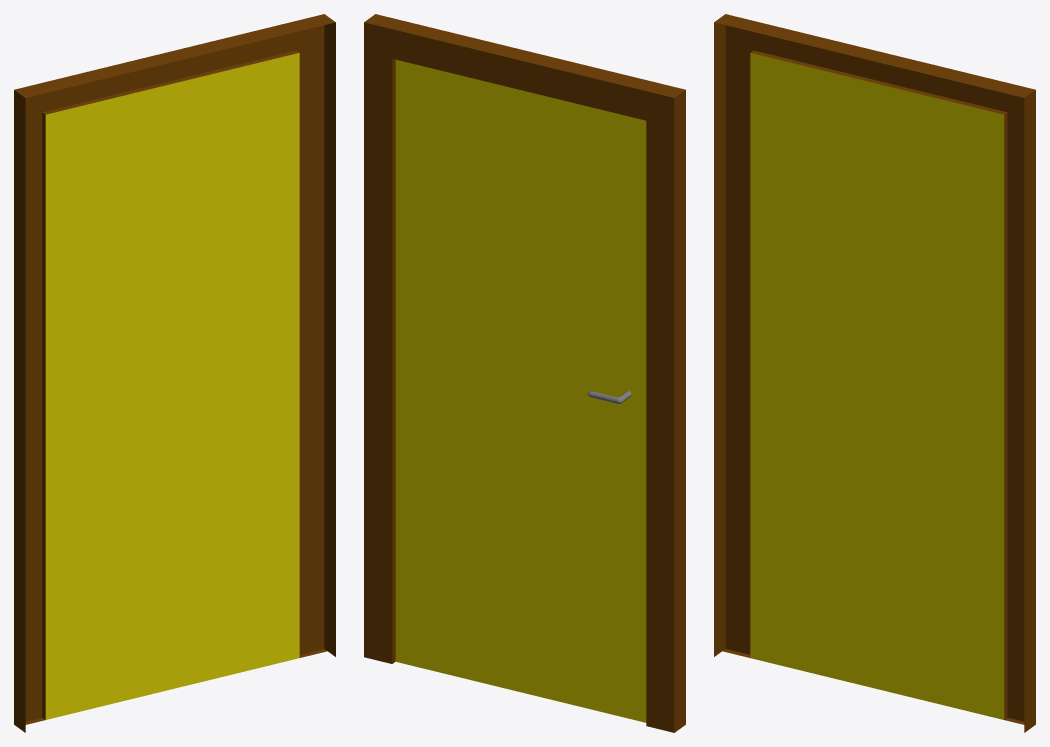
File: porte.glb
3 views of the same model, side by side, from view 1: azimuth 30°, elevation 25°; view 2: azimuth 150°, elevation 25°; view 3: azimuth 330°, elevation 25° (orthographic).
Visible parts, largest first — view 1: Cube; view 2: Cube; view 3: Cube.
Boxes of the visible parts, <box> form: Cube: <box>14,14,335,732</box>; Cube: <box>364,14,685,732</box>; Cube: <box>714,14,1035,732</box>.
Bounding box in the file's own units: 1.1 × 2.15 × 0.12.
